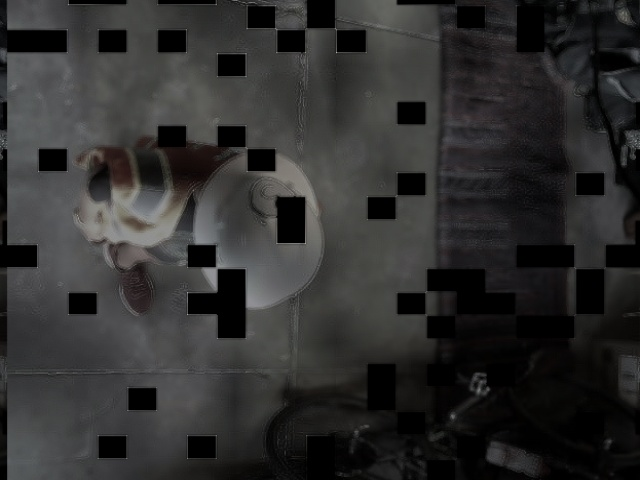three: (247, 177, 298, 217)
